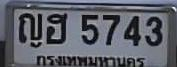3: (144, 16, 161, 45)
4: (123, 15, 140, 45)
5: (81, 14, 98, 44)
7: (102, 14, 119, 45)
A13: (18, 12, 42, 43)
A44: (45, 12, 67, 43)
BKK: (34, 53, 148, 67)
